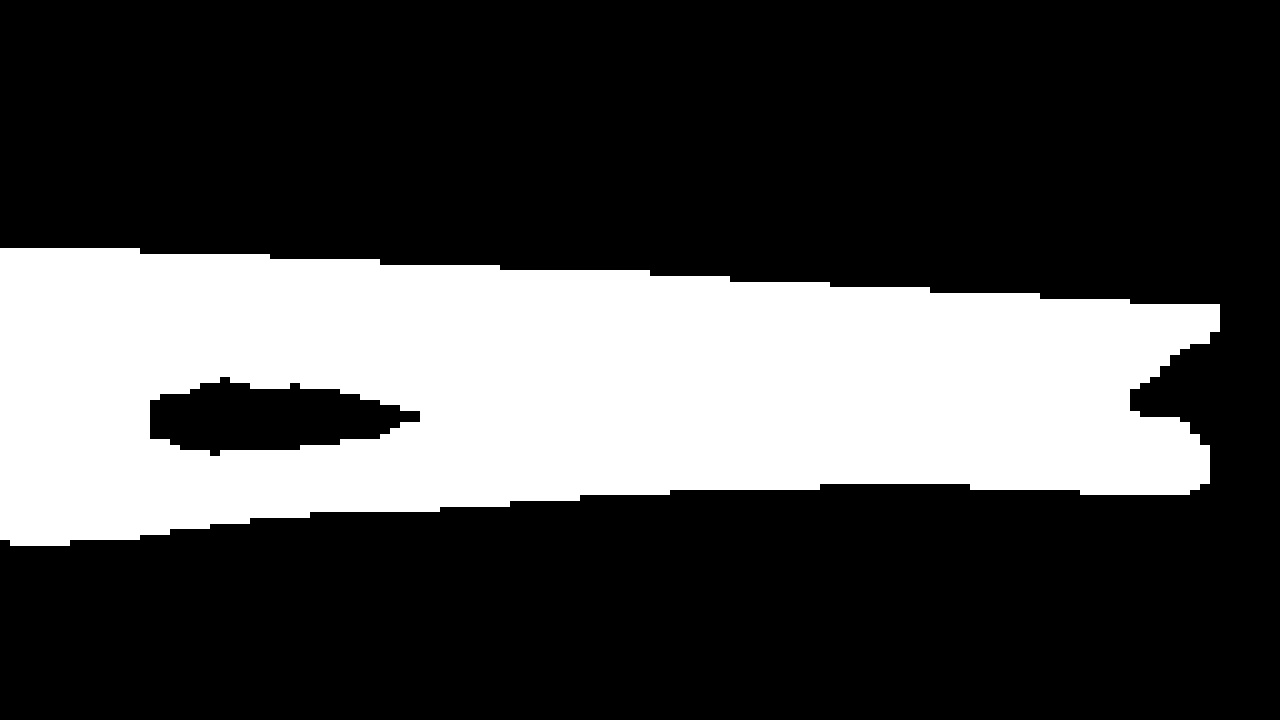Turbine: (3, 226, 1240, 522)
